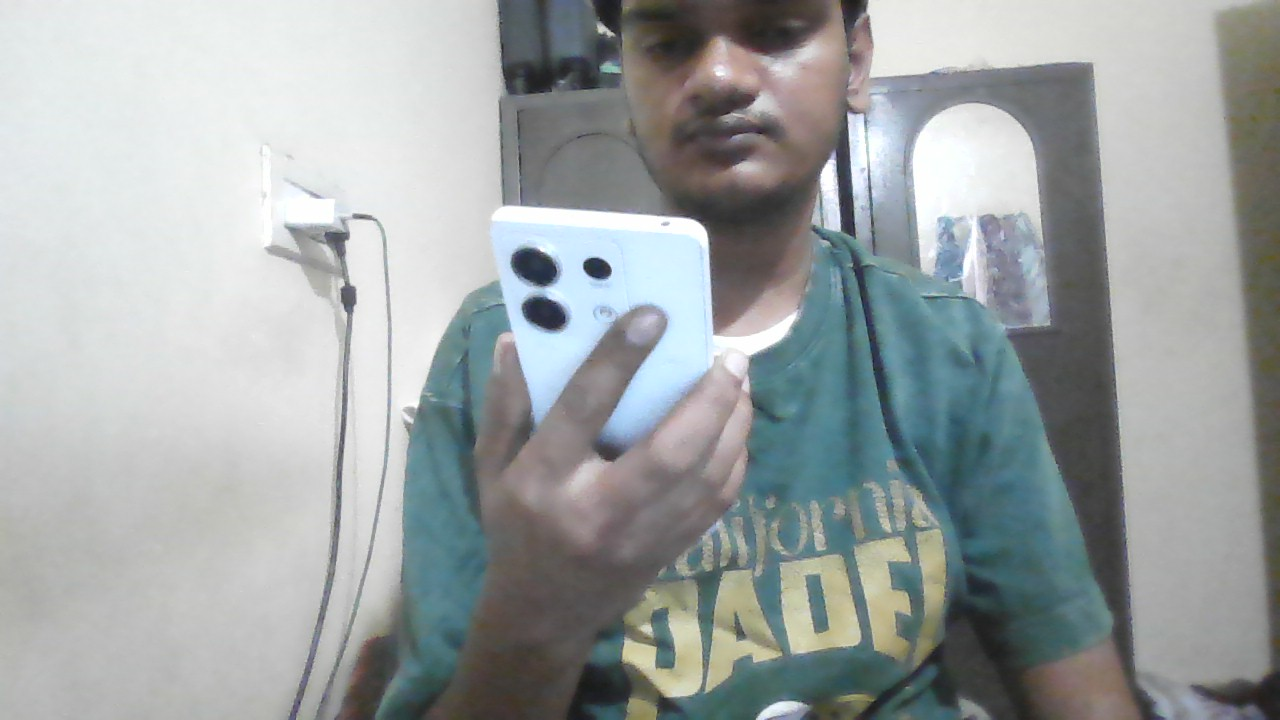phone: (491, 209, 711, 362)
